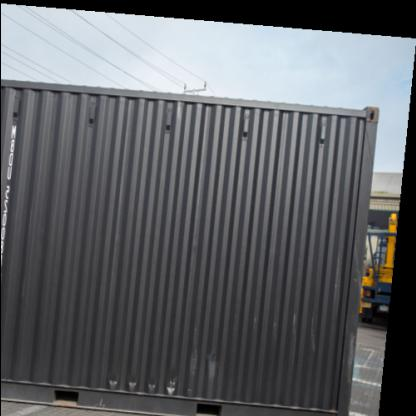Damage: (348, 233, 370, 384), (98, 368, 178, 392)
